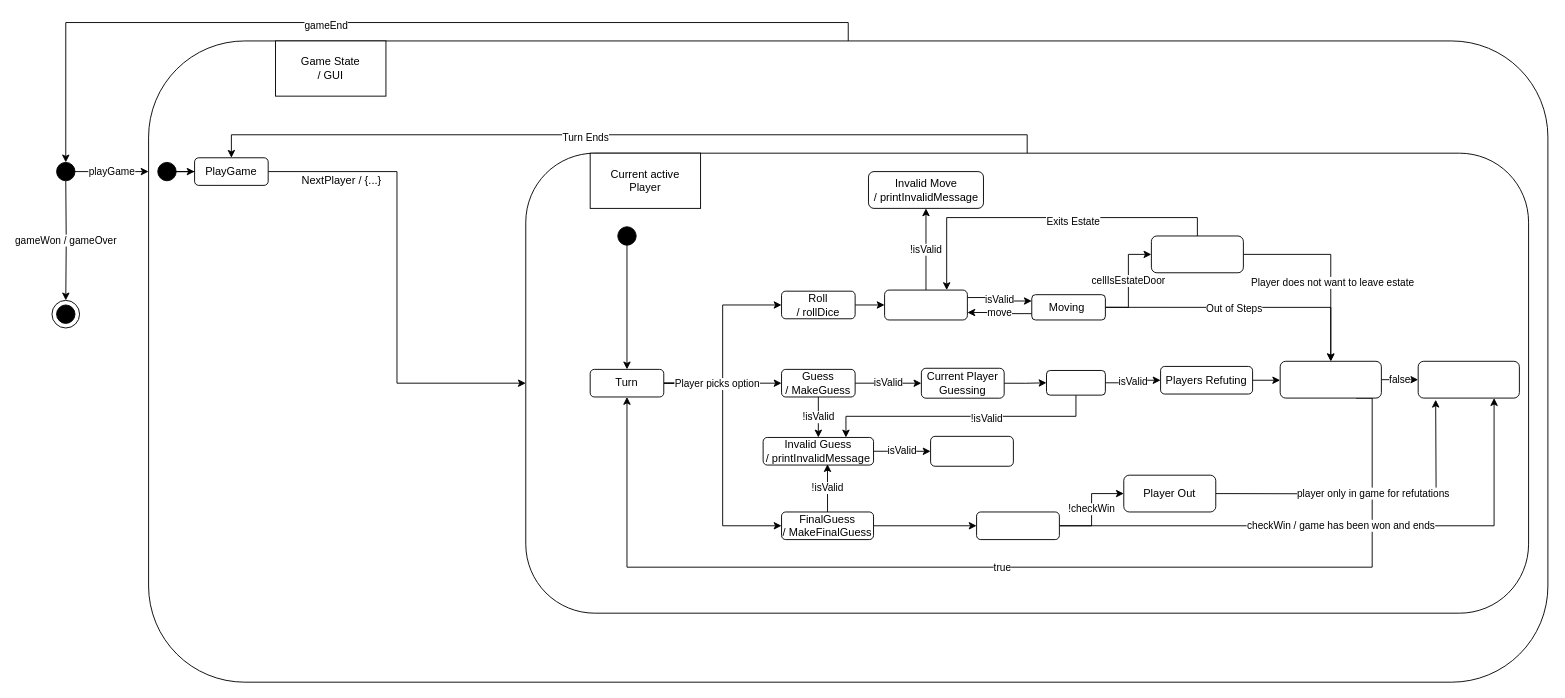
Some shapes in this 1565 by 698 pixel diagram are drawn without their labels. Each missing label, with the box of its shape:
Check Win /checkWin: (976, 511, 1059, 540)
End Turn/ endTurn: (1417, 360, 1519, 398)
Move / move: (884, 289, 967, 320)
Moves into Estate / enterEstate: (1150, 235, 1243, 273)
Player Making Final Guess: (930, 435, 1013, 466)
PlayerTurn: (1279, 360, 1381, 398)
Refutations: (1046, 370, 1105, 395)
